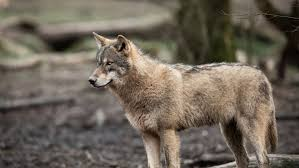Lobo: (82, 28, 278, 163)
